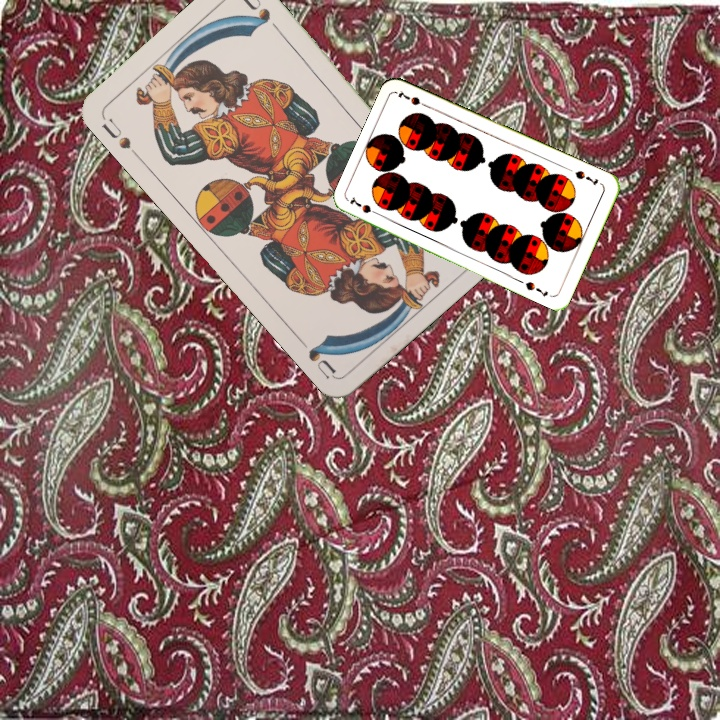S7: (346, 193, 384, 219), (571, 166, 601, 188)
SU: (97, 114, 134, 152)
